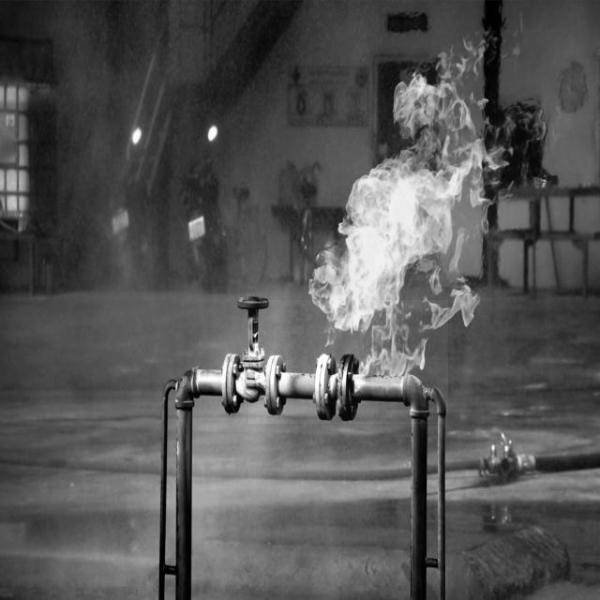gas: (248, 300, 448, 424)
